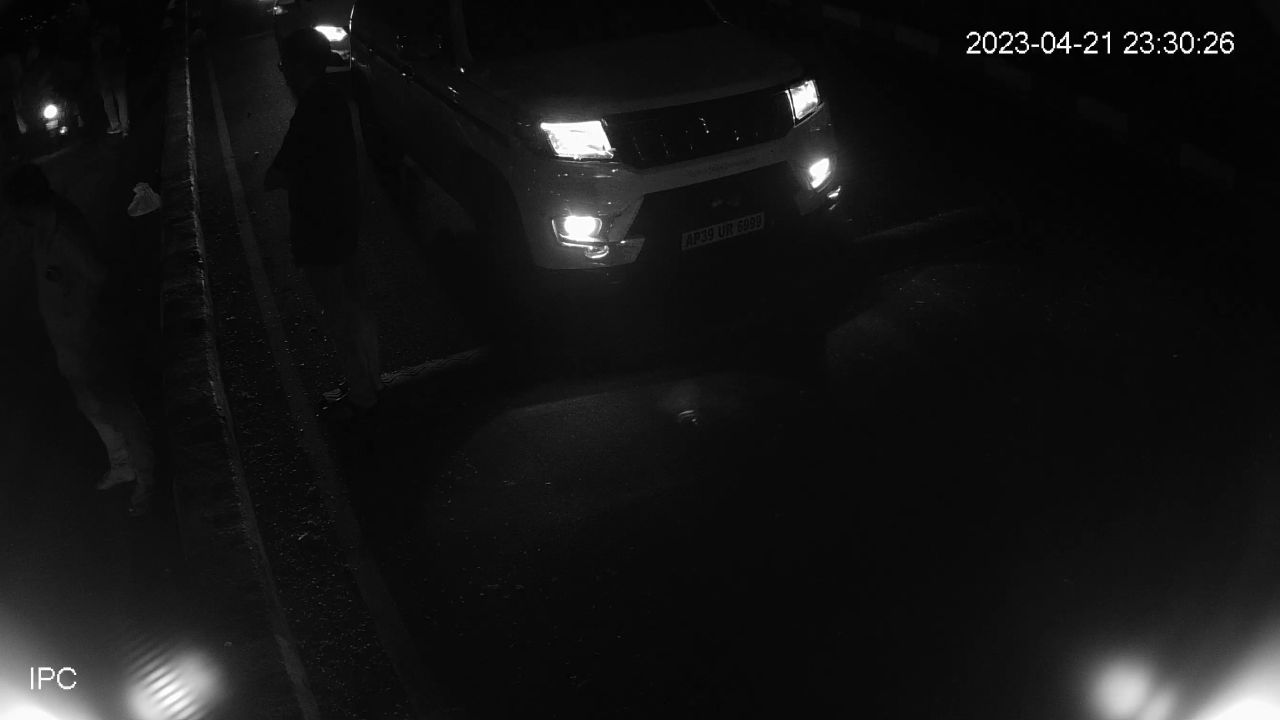license_plate: (675, 207, 770, 258)
